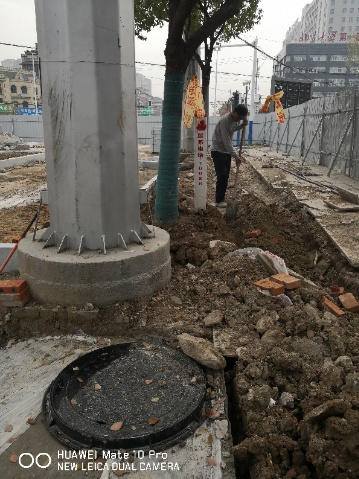good: (41, 338, 213, 459)
